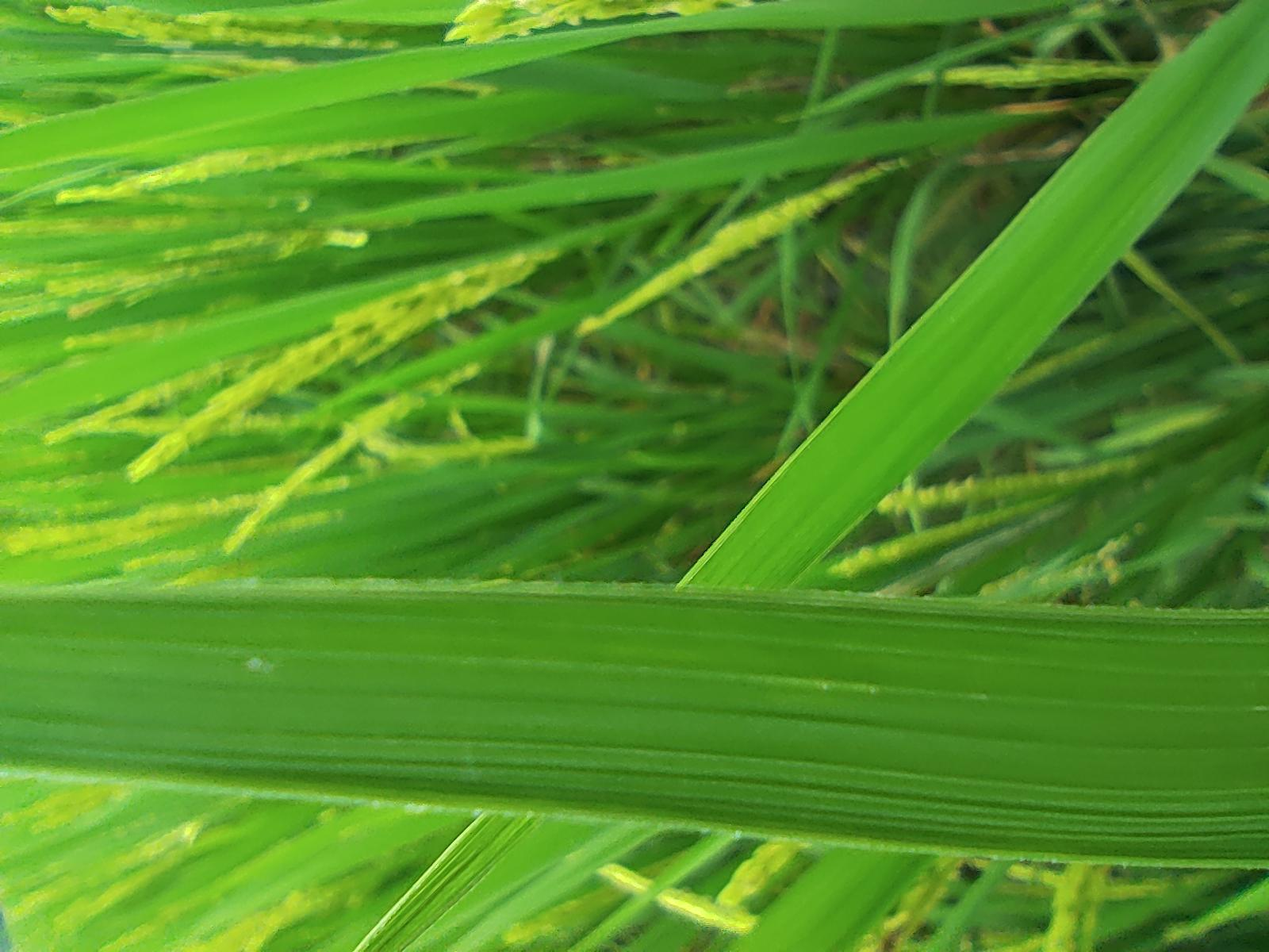Healthy: (115, 0, 493, 951)
